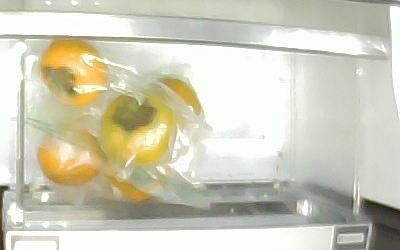persimmon_vinyl: (99, 92, 178, 165), (39, 38, 109, 106), (37, 124, 107, 187), (106, 162, 167, 201), (152, 78, 201, 121)
